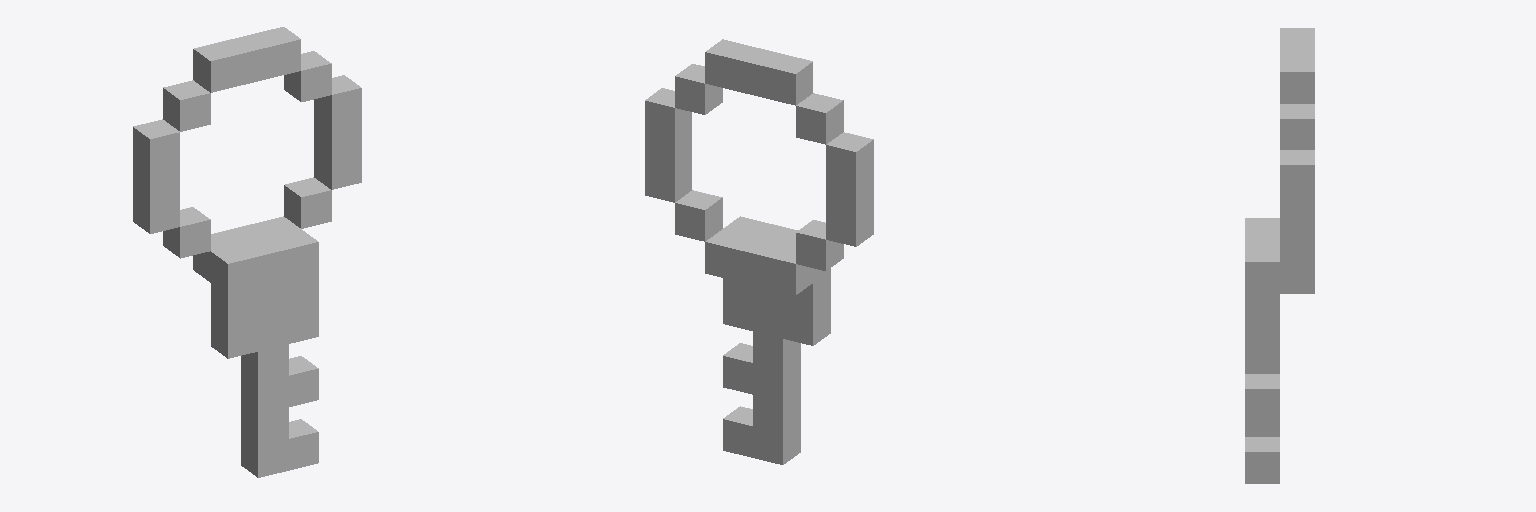
Rendered from Keys.obj.
3 renders of one model, left to right at view 1: azimuth 30°, elevation 25°; view 2: azimuth 150°, elevation 25°; view 3: azimuth 270°, elevation 25°, orthographic.
Visible parts, largest first — view 1: Model; view 2: Model; view 3: Model.
Part boxes in pixels (bbox=[...]): Model: bbox=[133, 27, 361, 477]; Model: bbox=[645, 39, 873, 464]; Model: bbox=[1245, 28, 1314, 483].
Size of the model in its own units: 17.23 by 32 by 4.92.